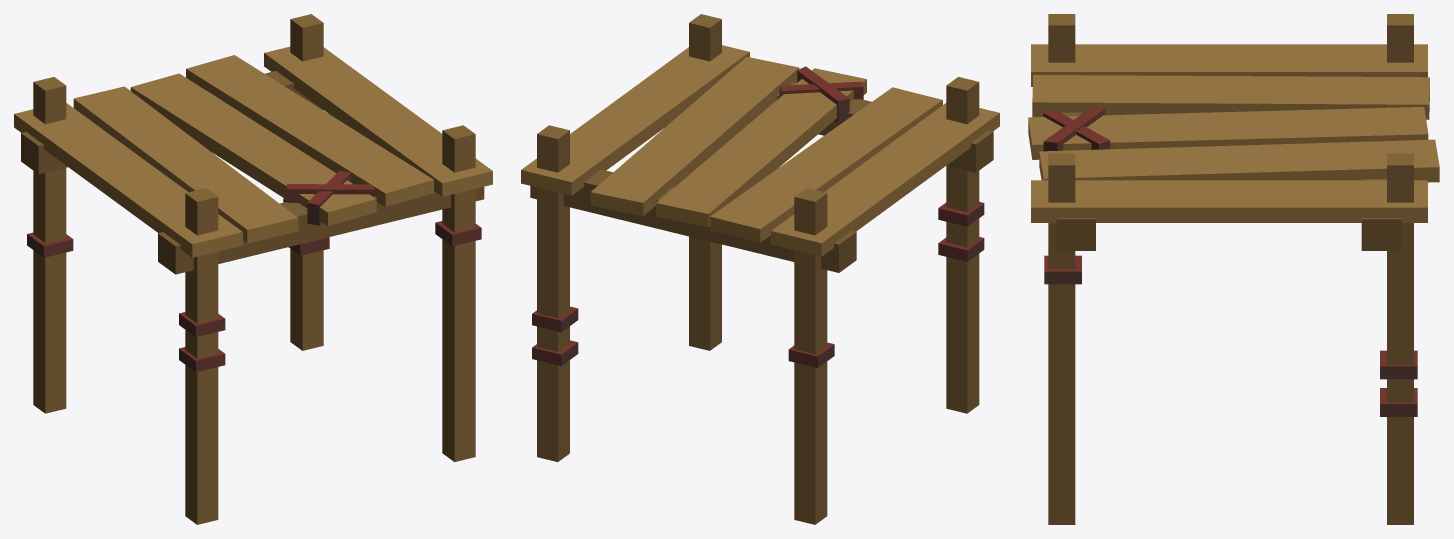
File: ST_Env_Bridge_02.fbx
The picture shows the model from 3 angles, left to right: view 1: azimuth 30°, elevation 25°; view 2: azimuth 150°, elevation 25°; view 3: azimuth 270°, elevation 25°; orthographic projection. The views are drawn at different scales.
Parts seen in each view (by area): view 1: ST_Env_Bridge_02; view 2: ST_Env_Bridge_02; view 3: ST_Env_Bridge_02.
Boxes of the visible parts, left/top/right/bottom form: ST_Env_Bridge_02: left=14, top=14, right=492, bottom=524; ST_Env_Bridge_02: left=521, top=14, right=999, bottom=524; ST_Env_Bridge_02: left=1028, top=14, right=1439, bottom=524.
Bounding box in the file's own units: 5 × 5 × 5.19.
